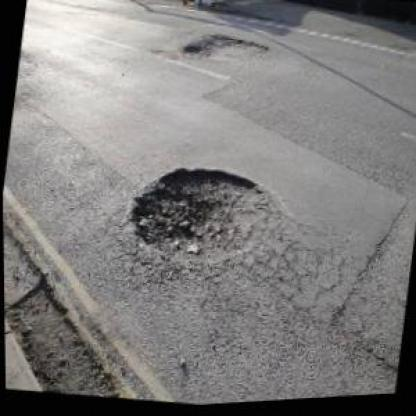pothole: (122, 154, 282, 276), (3, 265, 140, 403), (179, 25, 276, 78)
